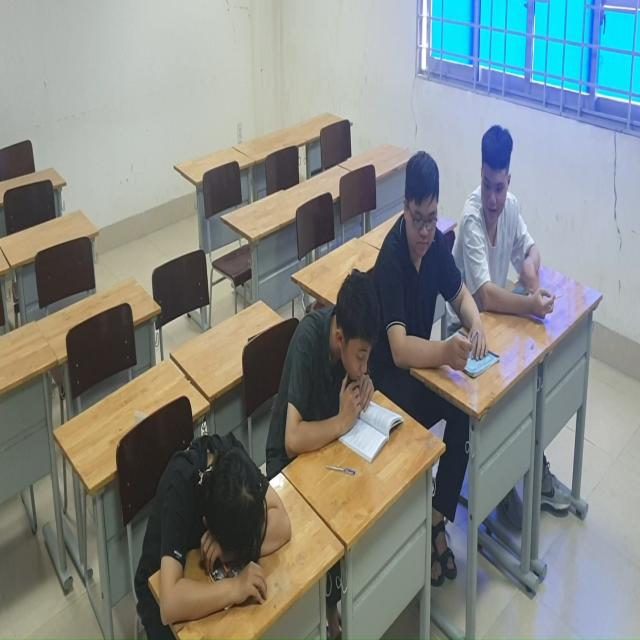read: (256, 265, 405, 466), (444, 104, 559, 350), (373, 178, 485, 425)
sleep: (124, 438, 294, 624)
